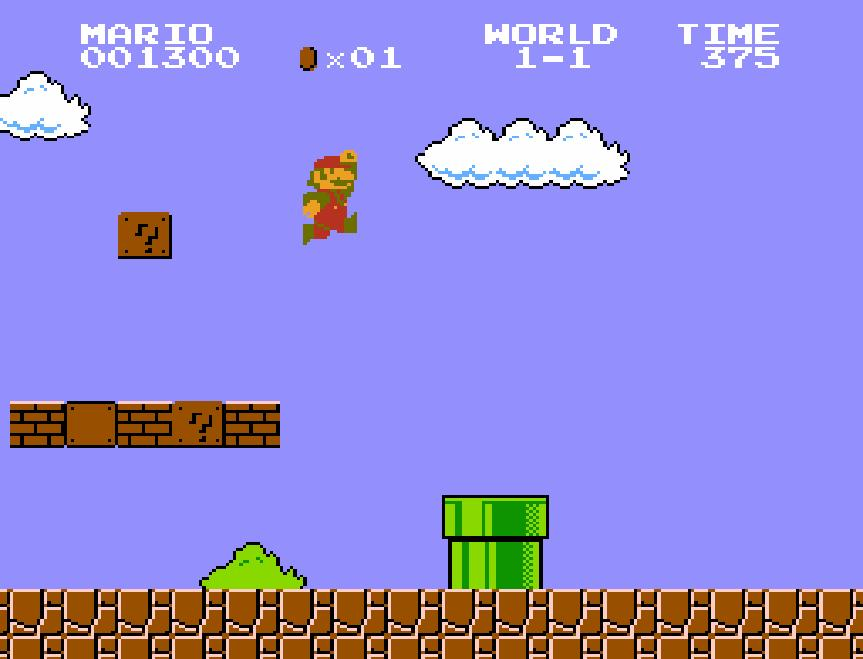big_mario: (301, 148, 359, 246)
